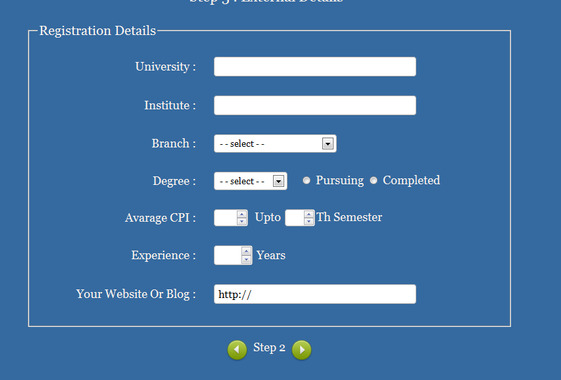_form_: (56, 1, 472, 380)
field: (211, 282, 418, 306), (211, 55, 417, 78), (213, 94, 417, 116), (212, 134, 338, 154), (213, 171, 288, 192), (213, 244, 252, 267), (212, 208, 250, 228), (284, 207, 316, 228)
field_with_label: (76, 280, 420, 308), (133, 53, 418, 80), (145, 93, 418, 117), (151, 132, 339, 155), (154, 169, 289, 193), (131, 243, 255, 268), (125, 206, 251, 229), (282, 206, 383, 229), (254, 206, 318, 229)
radio: (302, 175, 313, 185), (370, 174, 378, 186)
radio_with_label: (368, 173, 439, 188), (299, 173, 364, 187)
